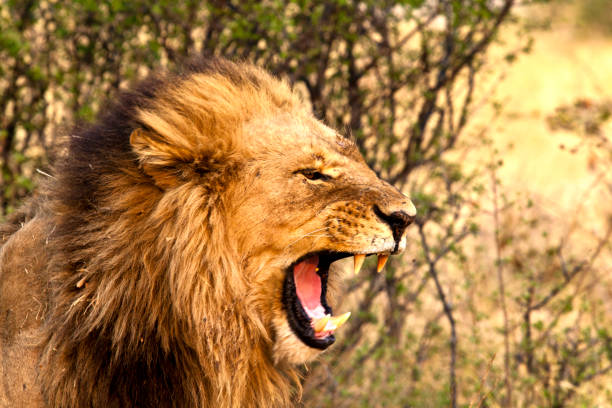lion: (39, 33, 431, 408)
